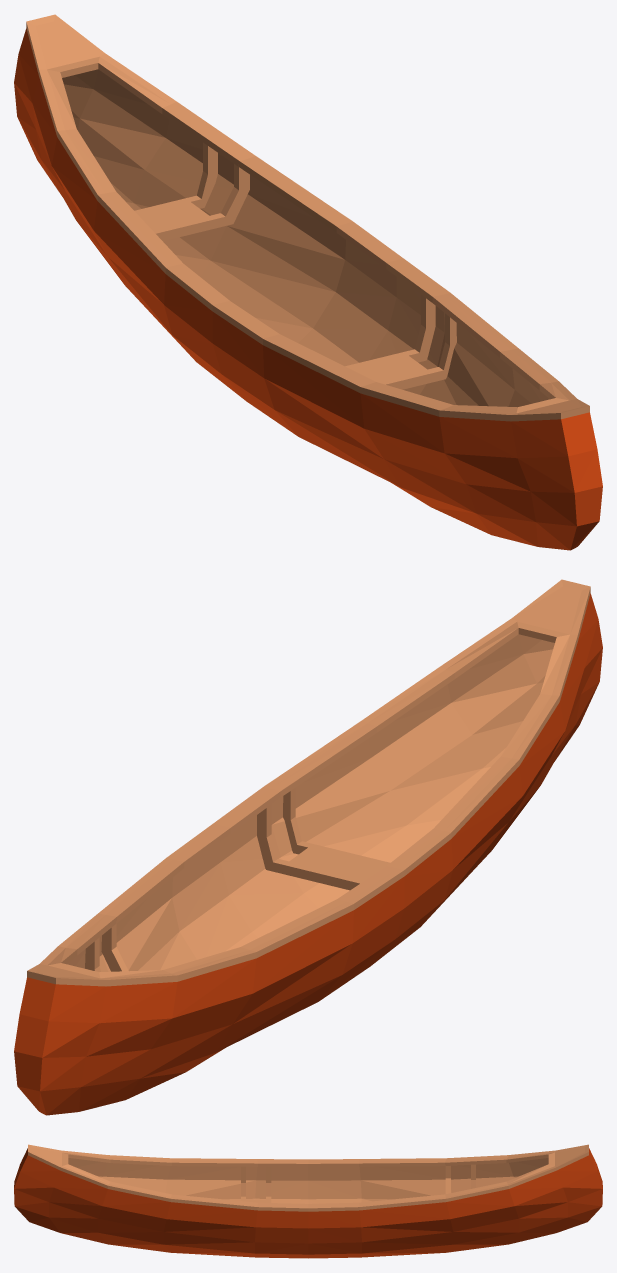
File: canoe-simple.glb
The picture shows the model from 3 angles, top to bottom: view 1: azimuth 30°, elevation 25°; view 2: azimuth 150°, elevation 25°; view 3: azimuth 270°, elevation 25°; orthographic projection. The views are drawn at different scales.
Parts seen in each view (by area): view 1: Canoe; view 2: Canoe; view 3: Canoe.
Boxes of the visible parts, x1,y1,x2,y2 form: Canoe: (14,14,602,550); Canoe: (14,579,602,1115); Canoe: (14,1144,602,1258).
Size of the model in its own units: 15.37 by 15.79 by 78.17.
Materials: 1 (1 with a texture image).
